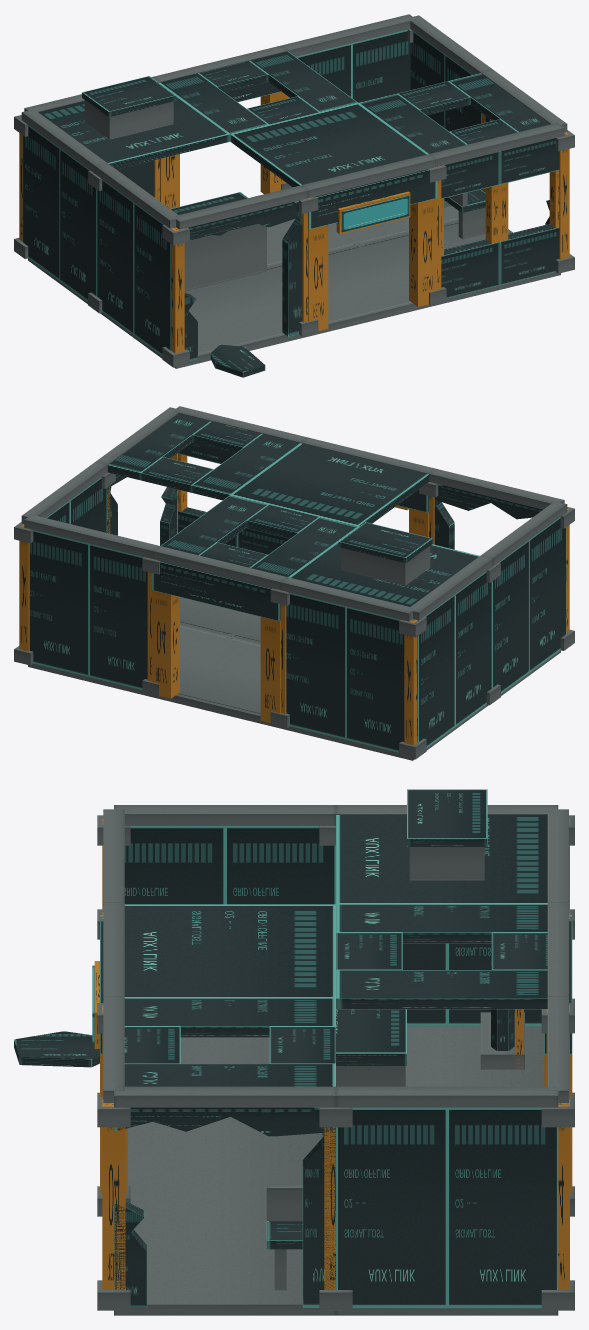
The model's file is CargoDepot_Ruined_LOD3.obj.
3 renders of one model, top to bottom at view 1: azimuth 30°, elevation 25°; view 2: azimuth 150°, elevation 25°; view 3: azimuth 270°, elevation 25°, orthographic. The views are drawn at different scales.
Parts seen in each view (by area): view 1: 004_roof_4m.003, 006_roof_skylight_4m.003, 023_doorframe_4m.003, 008_roof_skylight_4m.003, 003_floor_4m.003, 026_wall_window_2m.003, 002_roof_4m.003, 025_wall_window_2m.003, 000_floor_4m.003, 032_wall_vent_2m.003, 051_cargo_container.003, 031_wall_vent_2m.003 (+30 smaller); view 2: 004_roof_4m.003, 037_doorframe_4m.003, 008_roof_skylight_4m.003, 006_roof_skylight_4m.003, 035_wall_solid_2m.003, 040_wall_solid_2m.003, 034_wall_solid_2m.003, 039_wall_solid_2m.003, 005_floor_4m.003, 028_wall_solid_2m.003, 029_wall_solid_2m.003, 032_wall_vent_2m.003 (+29 smaller); view 3: 044_wall_vent_2m.003, 045_wall_vent_2m.003, 006_roof_skylight_4m.003, 004_roof_4m.003, 008_roof_skylight_4m.003, 007_floor_4m.003, 002_roof_4m.003, 003_floor_4m.003, 042_wall_breach_4m.003, 029_wall_solid_2m.003, 028_wall_solid_2m.003, 048_hvac_unit.003 (+25 smaller).
Boxes of the visible parts, <box> form: 004_roof_4m.003: <box>230,103,428,187</box>; 006_roof_skylight_4m.003: <box>160,51,357,134</box>; 023_doorframe_4m.003: <box>308,169,437,331</box>; 008_roof_skylight_4m.003: <box>359,73,550,153</box>; 003_floor_4m.003: <box>235,245,432,337</box>; 026_wall_window_2m.003: <box>500,138,559,285</box>; 002_roof_4m.003: <box>38,82,230,169</box>; 025_wall_window_2m.003: <box>441,151,499,298</box>; 000_floor_4m.003: <box>102,279,304,368</box>; 032_wall_vent_2m.003: <box>22,125,59,280</box>; 051_cargo_container.003: <box>170,192,266,291</box>; 031_wall_vent_2m.003: <box>59,148,96,301</box>; 004_roof_4m.003: <box>230,443,429,526</box>; 037_doorframe_4m.003: <box>151,561,280,723</box>; 008_roof_skylight_4m.003: <box>108,413,300,500</box>; 006_roof_skylight_4m.003: <box>161,495,358,577</box>; 035_wall_solid_2m.003: <box>286,592,345,739</box>; 040_wall_solid_2m.003: <box>29,530,88,677</box>; 034_wall_solid_2m.003: <box>345,606,404,752</box>; 039_wall_solid_2m.003: <box>89,543,147,689</box>; 005_floor_4m.003: <box>156,636,284,729</box>; 028_wall_solid_2m.003: <box>529,517,566,672</box>; 029_wall_solid_2m.003: <box>492,540,529,693</box>; 032_wall_vent_2m.003: <box>417,594,454,747</box>; 044_wall_vent_2m.003: <box>336,1107,447,1308</box>; 045_wall_vent_2m.003: <box>447,1107,558,1308</box>; 006_roof_skylight_4m.003: <box>336,904,547,1009</box>; 004_roof_4m.003: <box>124,904,335,998</box>; 008_roof_skylight_4m.003: <box>124,998,335,1086</box>; 007_floor_4m.003: <box>114,1210,335,1315</box>; 002_roof_4m.003: <box>336,815,547,904</box>; 003_floor_4m.003: <box>128,1117,322,1210</box>; 042_wall_breach_4m.003: <box>114,1107,335,1307</box>; 029_wall_solid_2m.003: <box>225,826,335,904</box>; 028_wall_solid_2m.003: <box>124,826,224,904</box>; 048_hvac_unit.003: <box>407,789,487,880</box>.
Size of the model in its own units: 12.52 by 5.3 by 10.1.
1 material, 1 textured.
